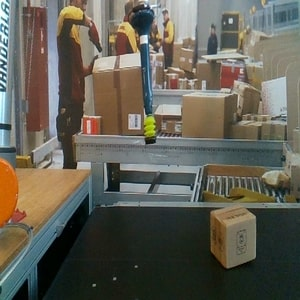box: (209, 204, 257, 269)
